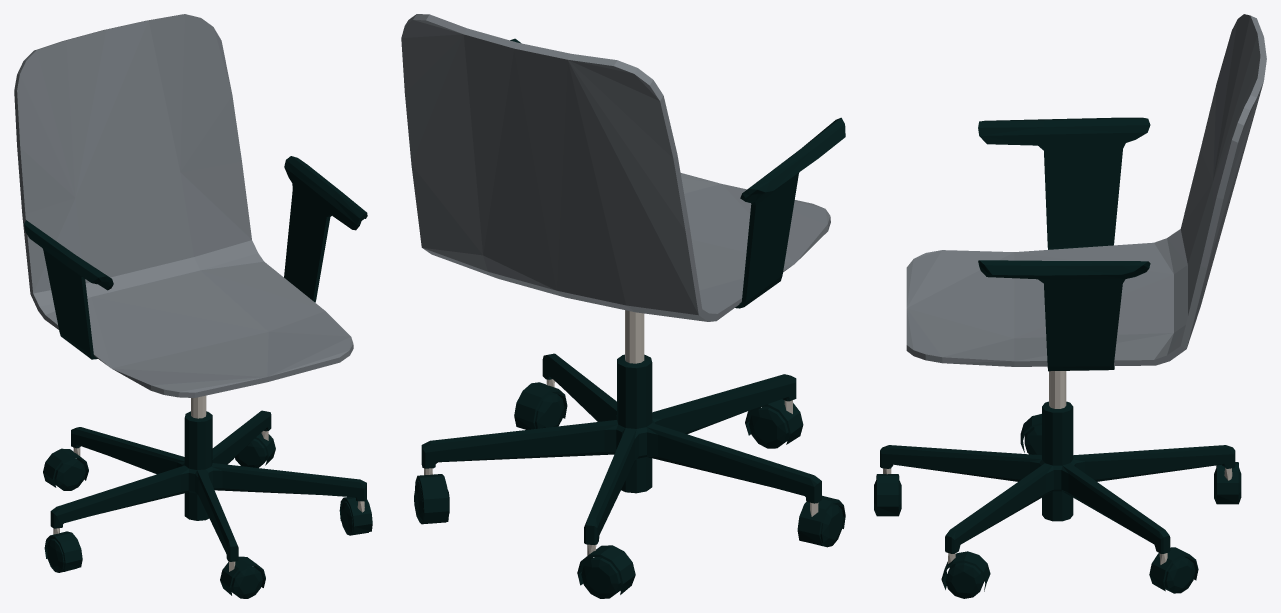
File: chair.glb
3 renders of one model, left to right at view 1: azimuth 30°, elevation 25°; view 2: azimuth 150°, elevation 25°; view 3: azimuth 270°, elevation 25°, orthographic. The views are drawn at different scales.
Visible parts, largest first — view 1: Node; view 2: Node; view 3: Node.
Boxes of the visible parts, <box> form: Node: <box>14,14,372,598</box>; Node: <box>401,14,845,598</box>; Node: <box>874,14,1266,598</box>.
Size of the model in its own units: 28.04 by 39.61 by 29.57.
